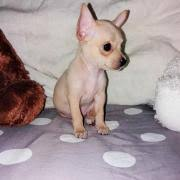chihuahua: (50, 1, 145, 152)
